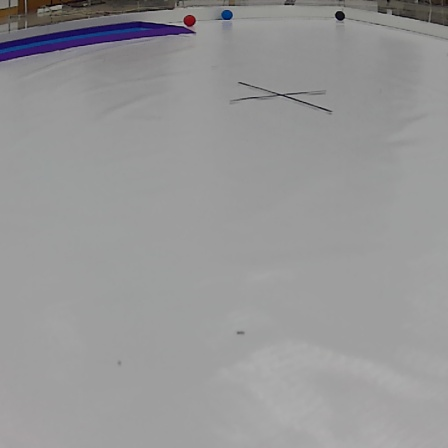black: (333, 11, 348, 20)
blue: (219, 8, 233, 19)
blue_aim: (0, 18, 197, 60)
red: (181, 12, 197, 27)
